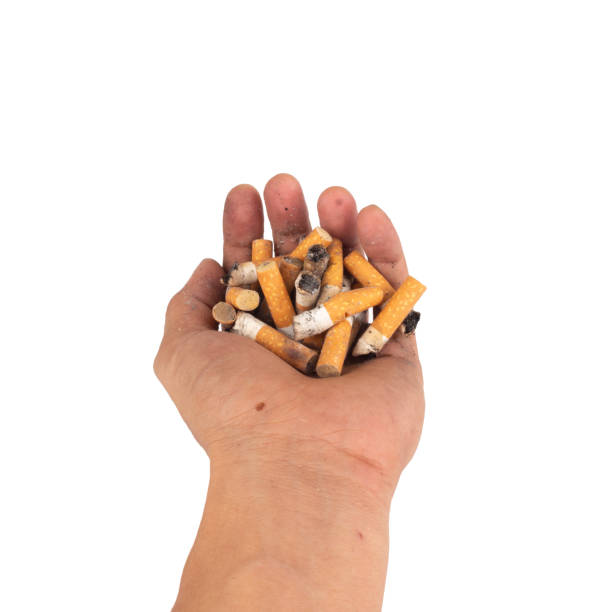cigarette: (340, 248, 423, 336), (350, 274, 428, 363), (231, 310, 320, 373), (291, 285, 386, 342), (255, 259, 299, 342), (315, 315, 353, 379), (315, 235, 344, 308), (290, 225, 334, 264), (219, 258, 259, 290), (296, 269, 323, 314), (302, 241, 331, 279), (222, 286, 261, 312), (212, 299, 240, 327), (249, 237, 274, 264)
